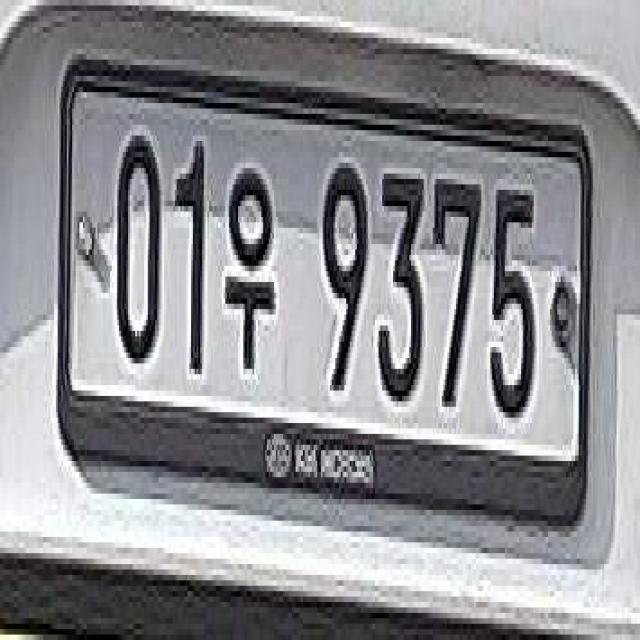illegal_plate: (56, 64, 602, 533)
